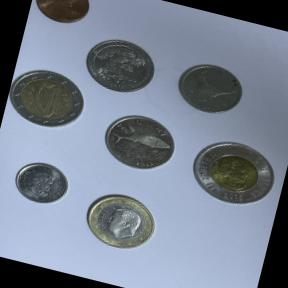coin: (181, 130, 284, 218), (1, 61, 91, 140), (94, 106, 184, 181), (77, 182, 164, 258), (76, 30, 166, 102), (8, 151, 76, 213), (28, 0, 97, 31)
